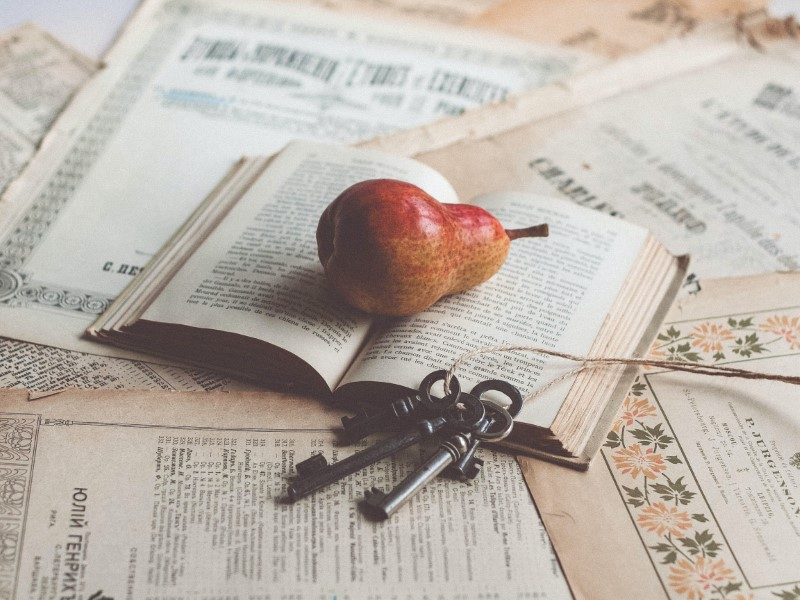key: (272, 364, 524, 528)
